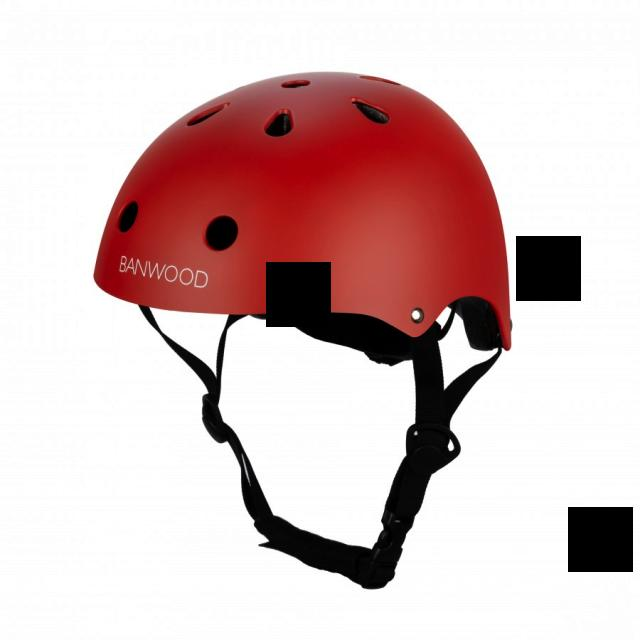Helmet: (94, 72, 511, 348)
